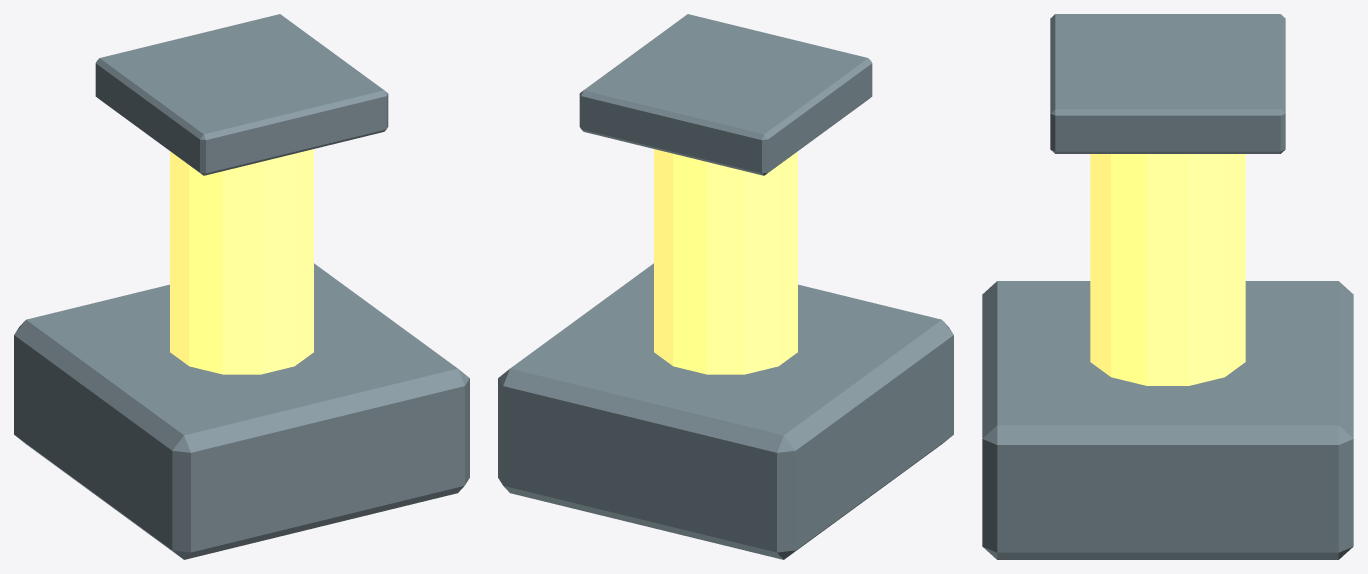
The model's file is Airfield_Beacon.glb.
The picture shows the model from 3 angles, left to right: view 1: azimuth 30°, elevation 25°; view 2: azimuth 150°, elevation 25°; view 3: azimuth 270°, elevation 25°; orthographic projection. The views are drawn at different scales.
Visible parts, largest first — view 1: Airfield_Beacon_Base, Airfield_Beacon_Guard, Airfield_Beacon_Light; view 2: Airfield_Beacon_Base, Airfield_Beacon_Guard, Airfield_Beacon_Light; view 3: Airfield_Beacon_Base, Airfield_Beacon_Light, Airfield_Beacon_Guard.
Boxes of the visible parts, x1,y1,x2,y2 form: Airfield_Beacon_Base: (14,263,469,559); Airfield_Beacon_Guard: (95,14,388,175); Airfield_Beacon_Light: (170,149,313,374); Airfield_Beacon_Base: (498,263,953,559); Airfield_Beacon_Guard: (579,14,872,175); Airfield_Beacon_Light: (654,149,797,374); Airfield_Beacon_Base: (982,281,1353,559); Airfield_Beacon_Light: (1090,154,1245,385); Airfield_Beacon_Guard: (1050,14,1285,153).
Size of the model in its own units: 0.6 by 0.76 by 0.6.
